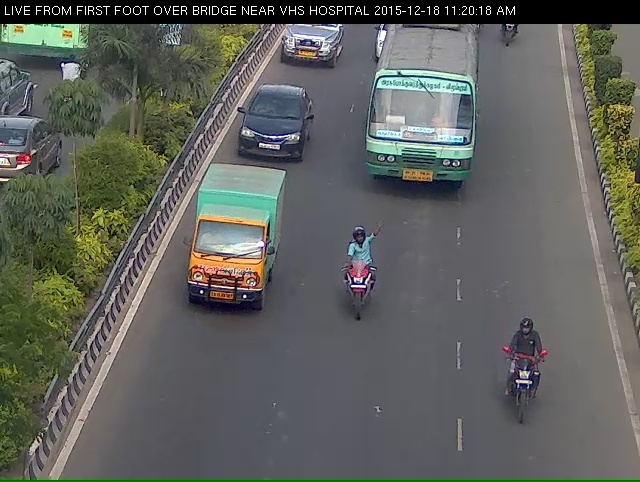Auto: (177, 172, 281, 326)
Bus: (363, 20, 479, 201)
Car: (230, 94, 309, 173), (272, 21, 342, 72)
Person: (499, 342, 555, 453), (332, 244, 383, 339)
